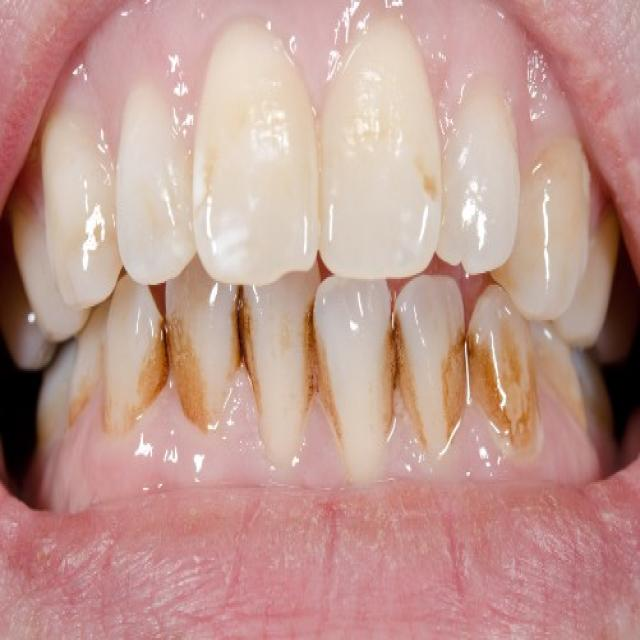tooth: (193, 32, 318, 266), (331, 39, 437, 281), (98, 88, 193, 281), (311, 266, 394, 462), (164, 273, 242, 441), (240, 281, 312, 459), (393, 288, 469, 454), (446, 92, 508, 273), (470, 289, 532, 451)
